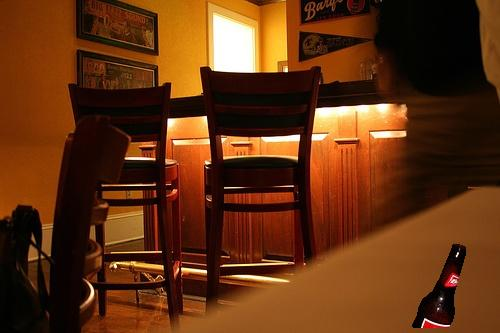tampered: (413, 245, 466, 328)
